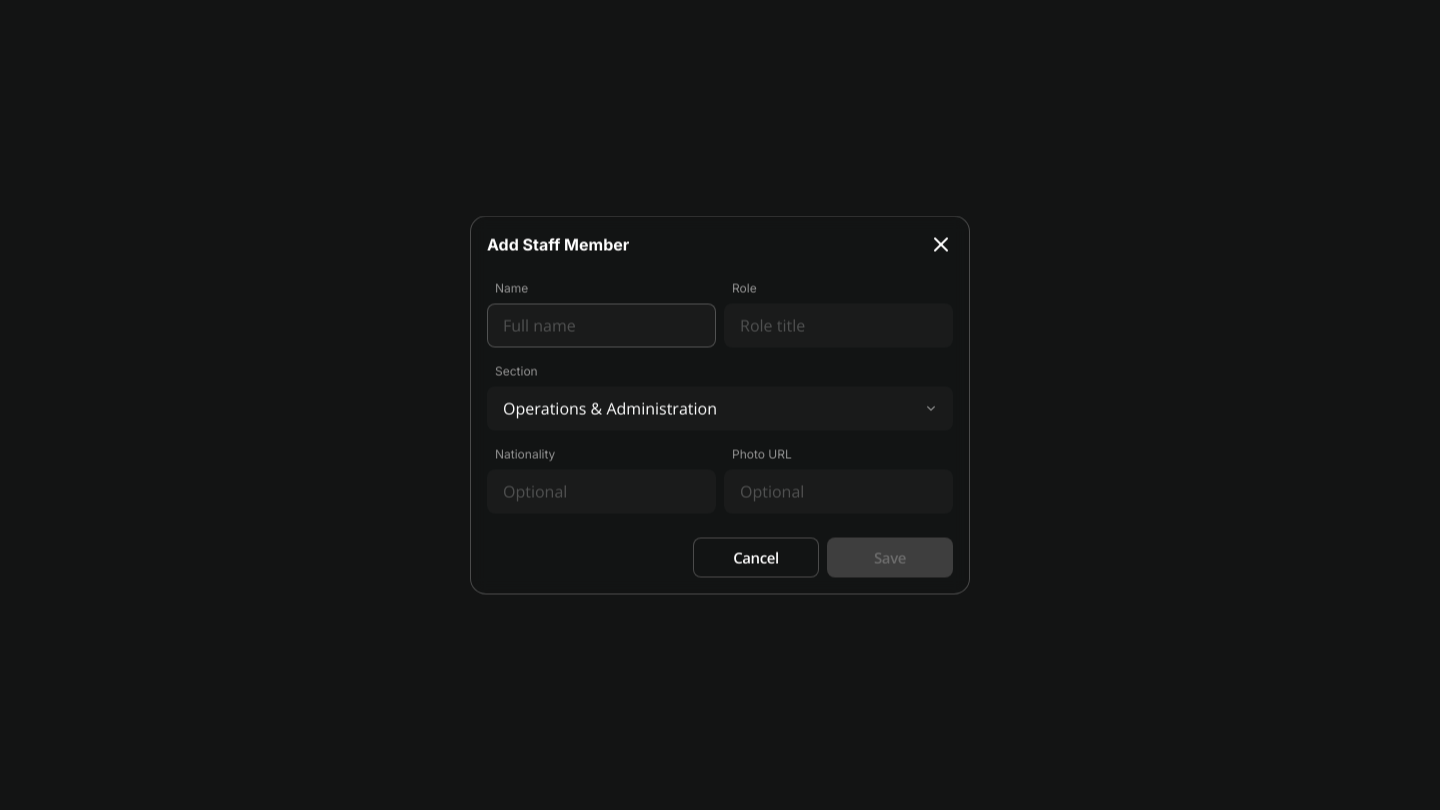
Test: StaffMemberFormDialogComponent › asks for a full link before saving a photo URL
Type "Joshua Kalim" into the field with id "staff-member-name" at (602, 326), box [503,304,700,348]
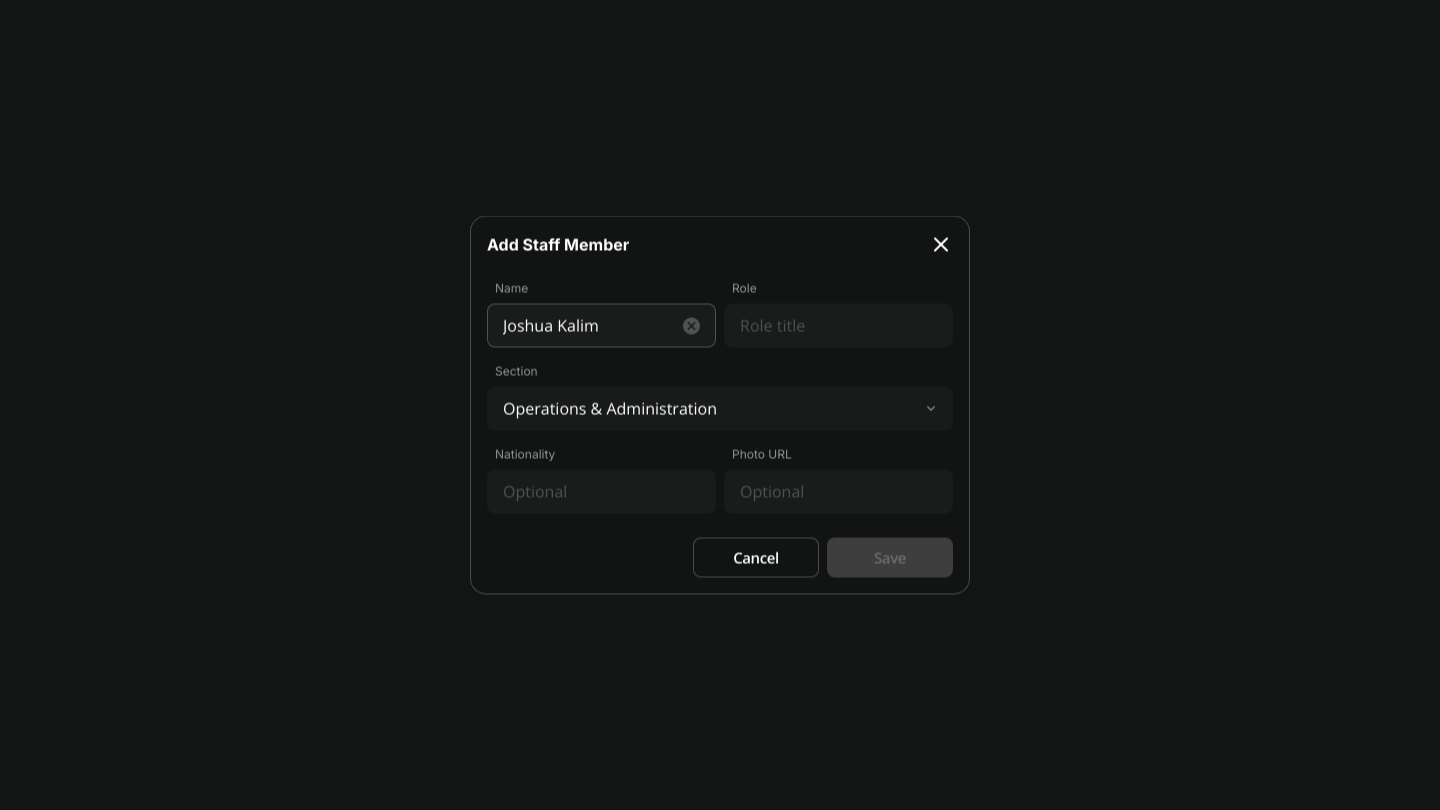
Type "Team Manager" into the field with id "staff-member-role" at (838, 326), box [740,304,937,348]
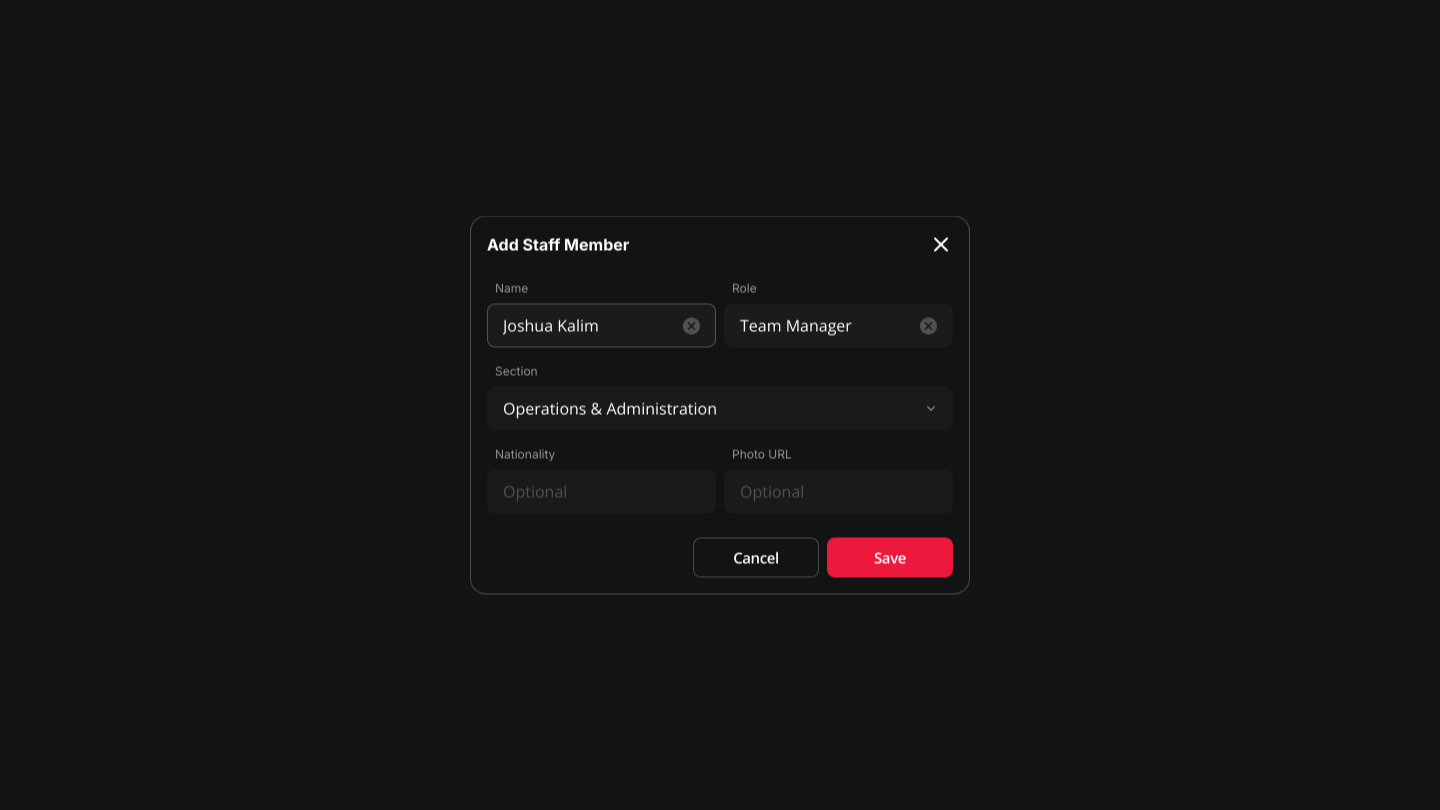
Type "photo.jpg" into the field with id "staff-member-photo" at (838, 492), box [740,470,937,514]
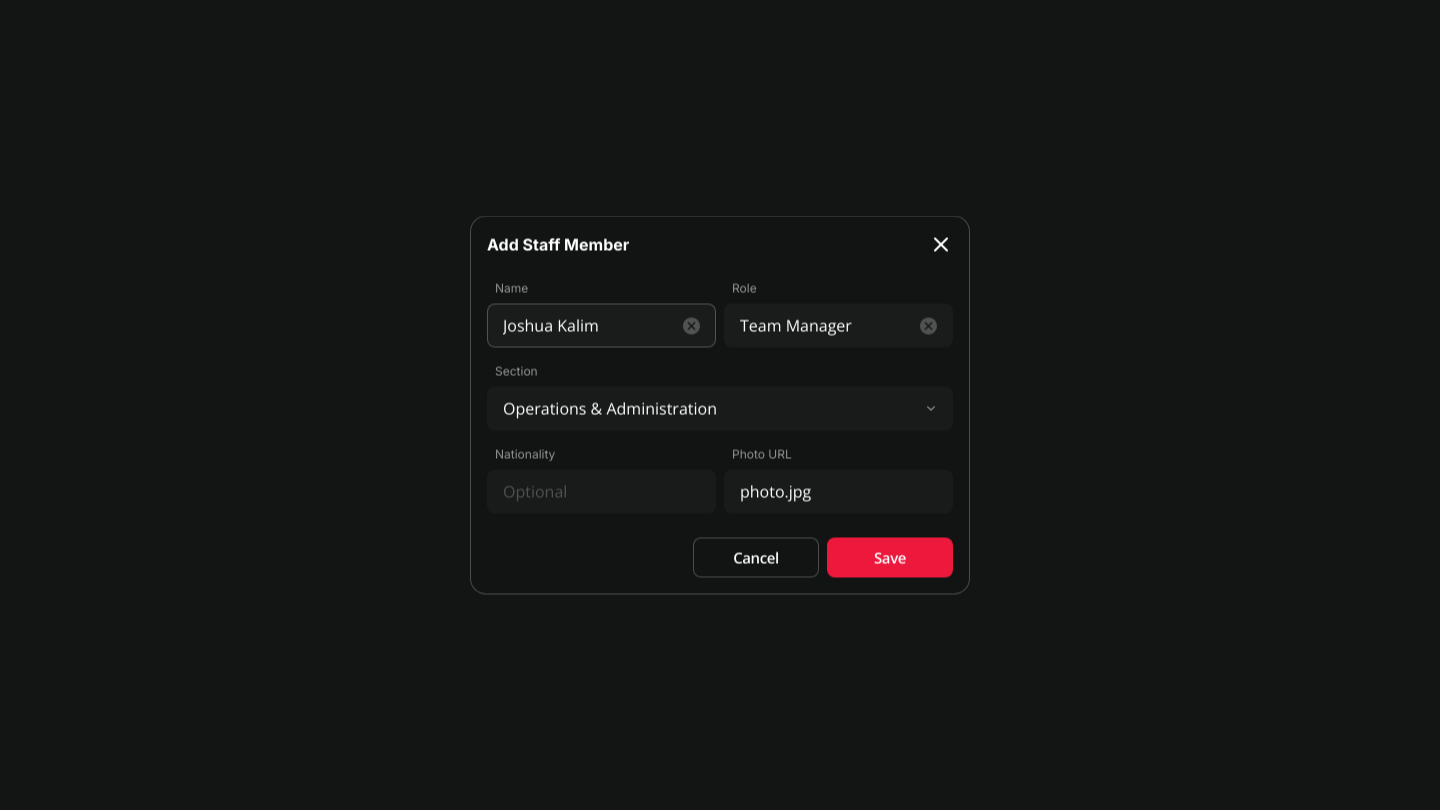
Leave the field with id "staff-member-photo", box [740,470,937,514]
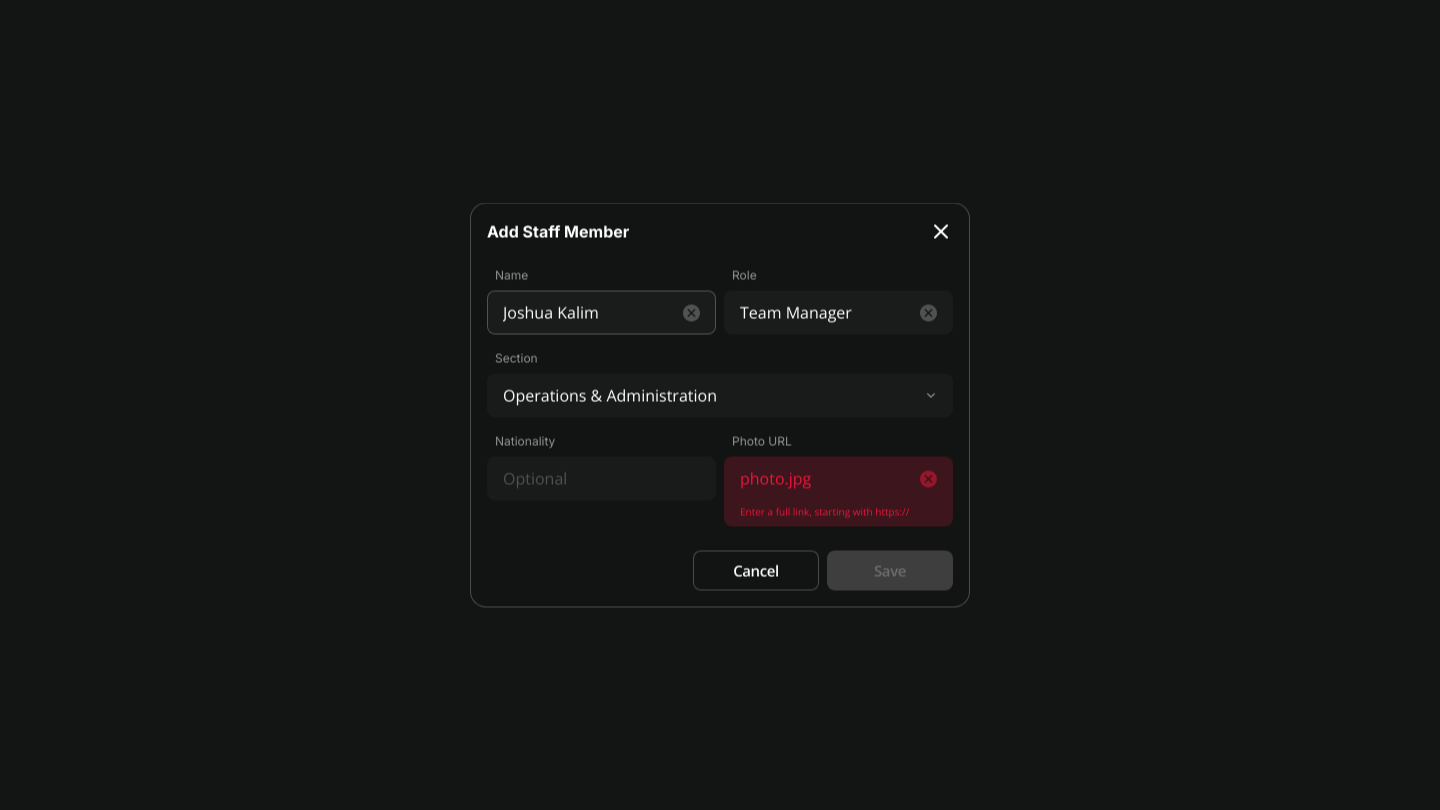
Check: the submit button is disabled, box [827,550,953,590]
Check: the text "Enter a full link" is shown, box [740,504,909,518]
